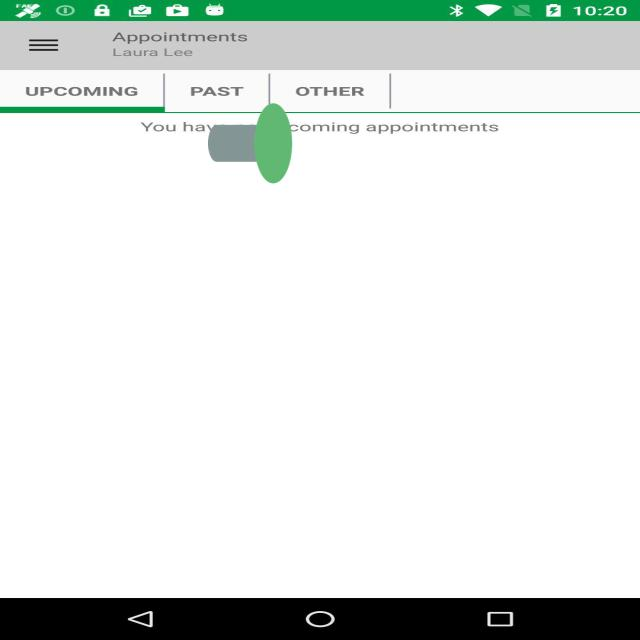social proof: (208, 54, 292, 233)
